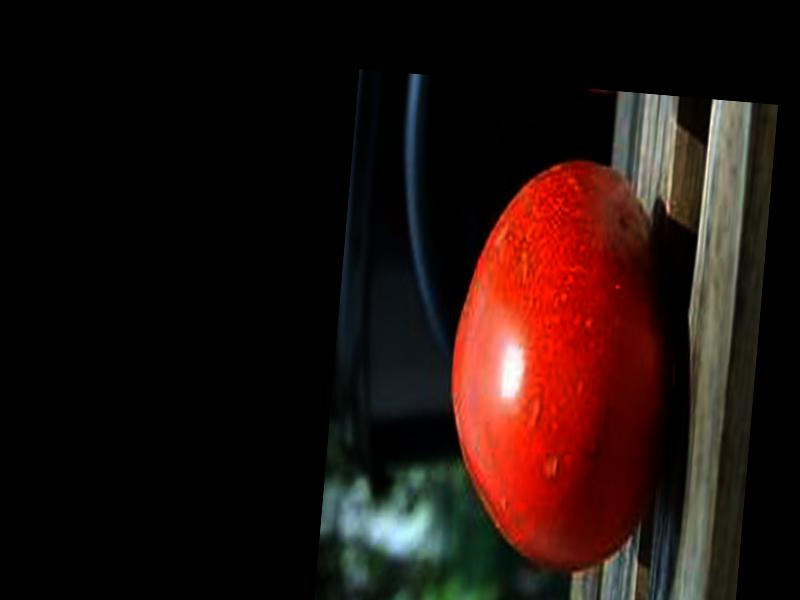Tomato: (434, 151, 687, 580)
